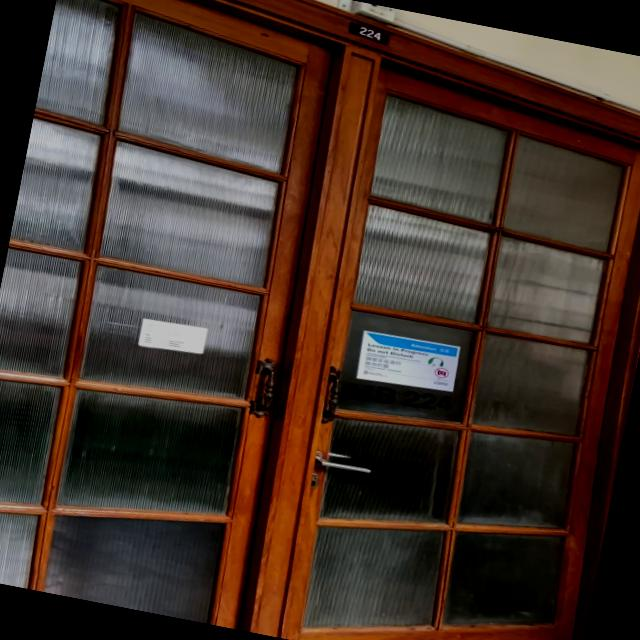room224: (344, 22, 392, 46)
room224Window: (344, 376, 457, 423)
